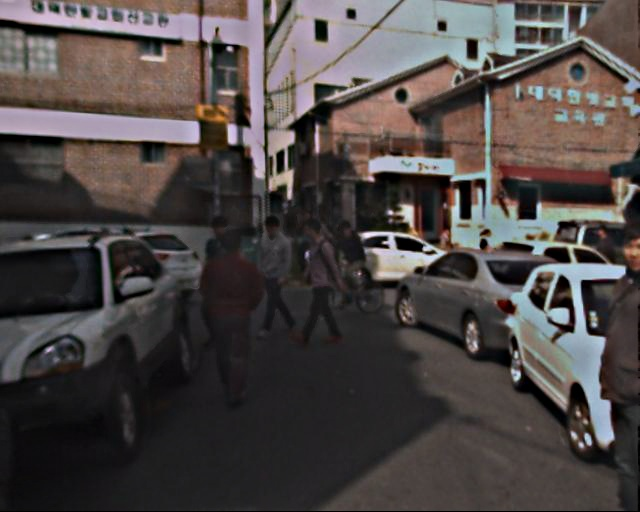person: (577, 225, 640, 509), (196, 234, 268, 409), (192, 215, 247, 349), (250, 216, 301, 340), (291, 222, 342, 346), (331, 215, 367, 304), (591, 225, 620, 296), (436, 227, 460, 285), (477, 229, 500, 285)
